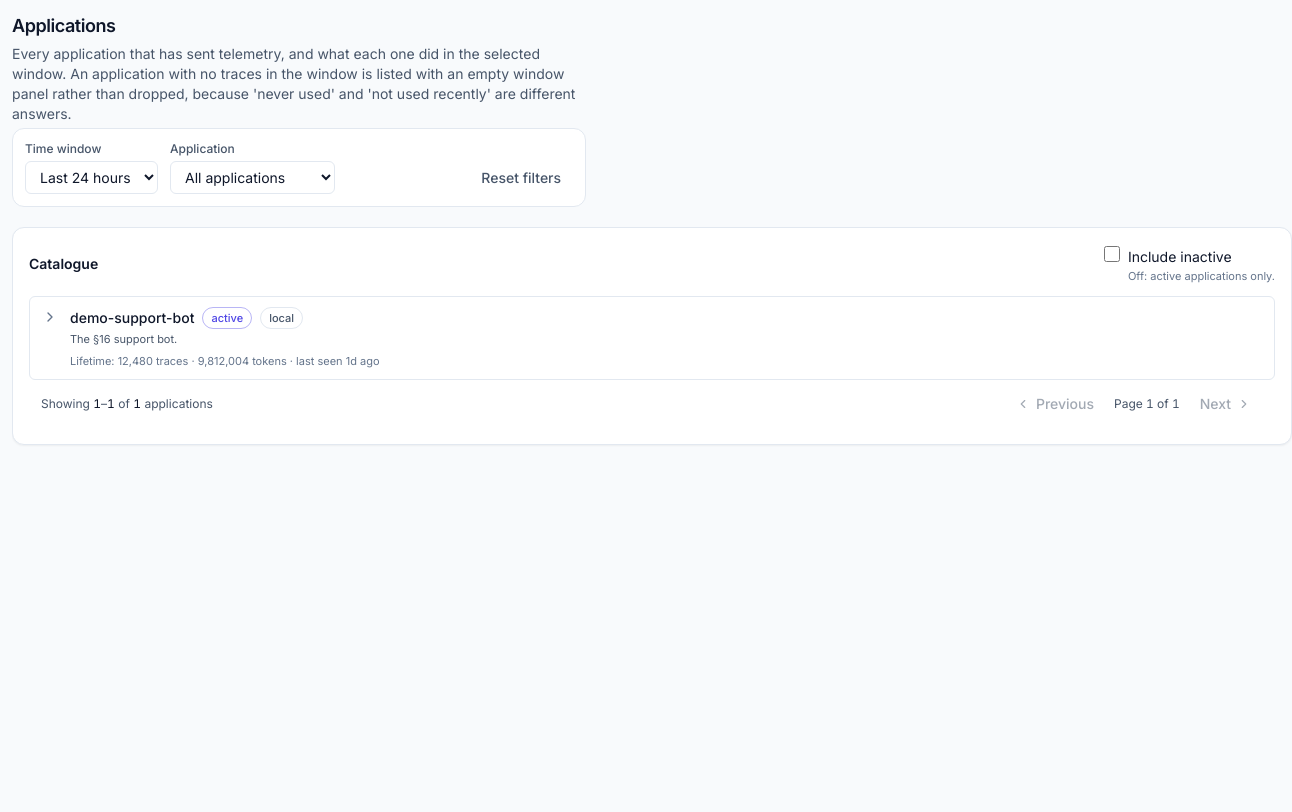
Test case: ApplicationsPage › renders an unmeasured average latency as no value, not 0 ms
Click the text "demo-support-bot" at (132, 318), box x1=70 y1=308 x2=194 y2=328
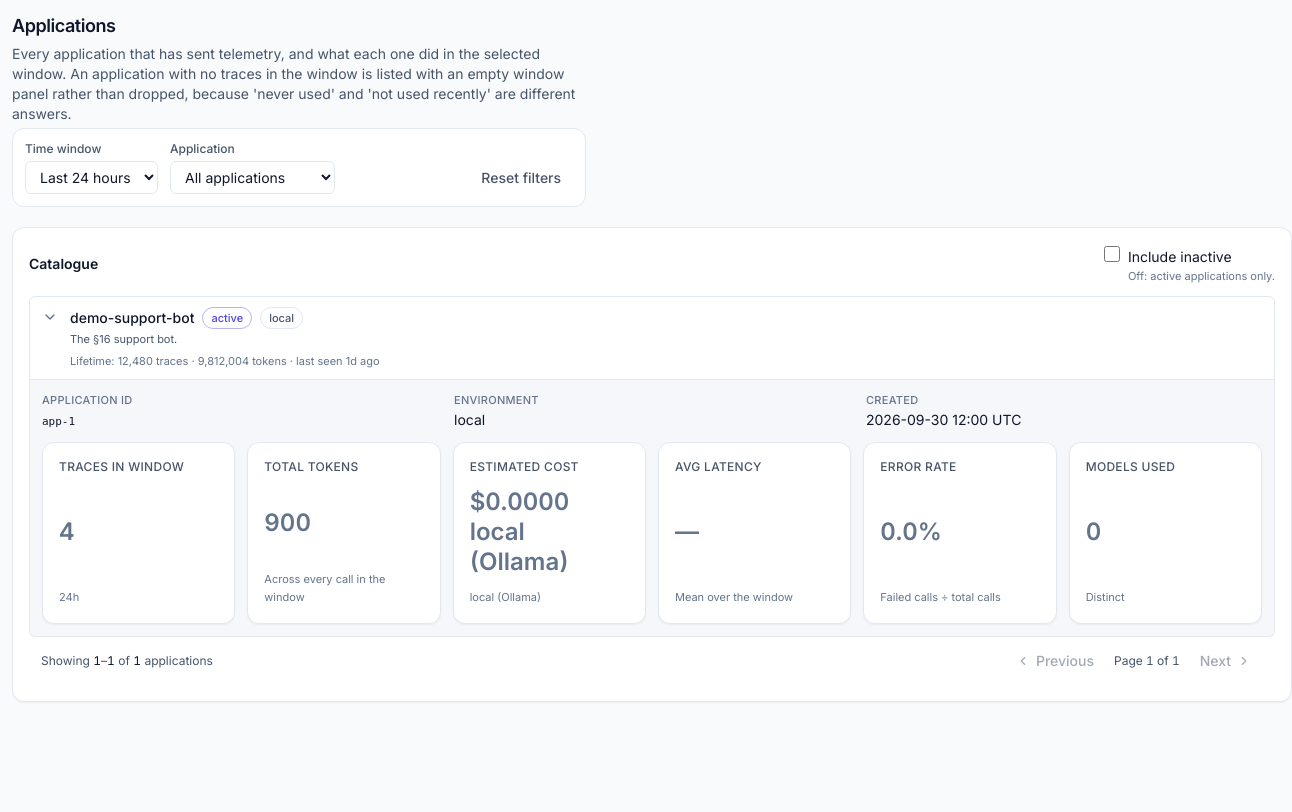
Now the text "Traces in window" is shown, box x1=59 y1=459 x2=184 y2=475
Now the text "Avg latency" shows "—", box x1=675 y1=517 x2=699 y2=546
